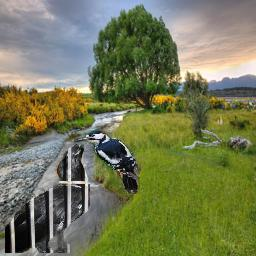Crow: (6, 145, 91, 254)
Woodpecker: (74, 130, 140, 194)
